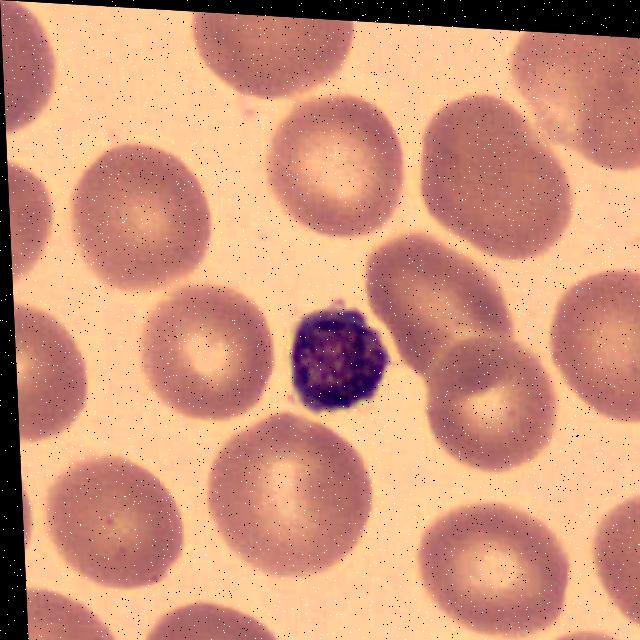platelets: (289, 299, 400, 421)
rbc: (413, 85, 580, 259), (204, 414, 381, 571), (366, 229, 527, 388), (68, 138, 222, 282), (424, 328, 565, 477), (141, 277, 284, 423), (42, 457, 191, 596), (259, 92, 404, 234), (417, 505, 573, 632), (508, 30, 640, 167), (175, 10, 362, 106), (546, 259, 640, 422), (13, 291, 97, 448), (126, 580, 324, 640), (0, 0, 70, 142), (583, 492, 640, 631), (26, 571, 129, 640), (7, 151, 58, 283), (20, 456, 41, 559), (523, 623, 640, 640), (395, 633, 519, 640)
